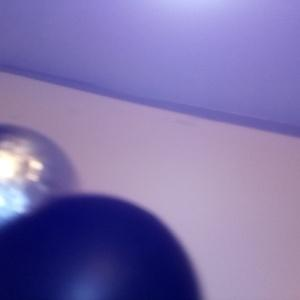alive_ball: (1, 124, 77, 244)
dead_ball: (1, 196, 200, 300)
